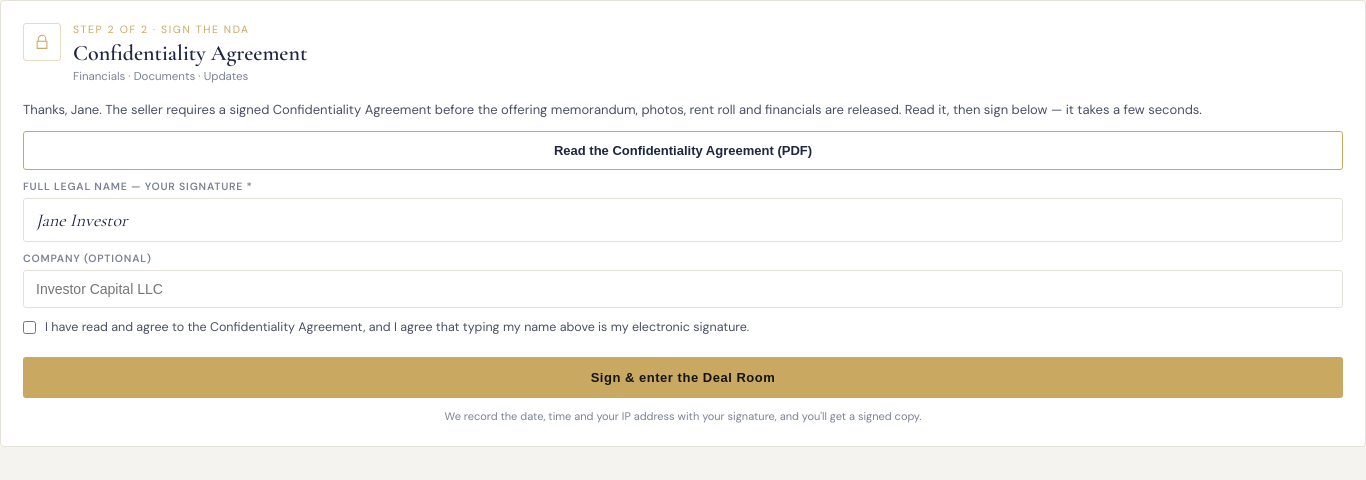
Test: OmGate — NDA step › will not sign without the agreement box, then signs and opens
Click the button "Sign & enter the Deal Room".
click(683, 377)  # box 23,357 -> 1343,398
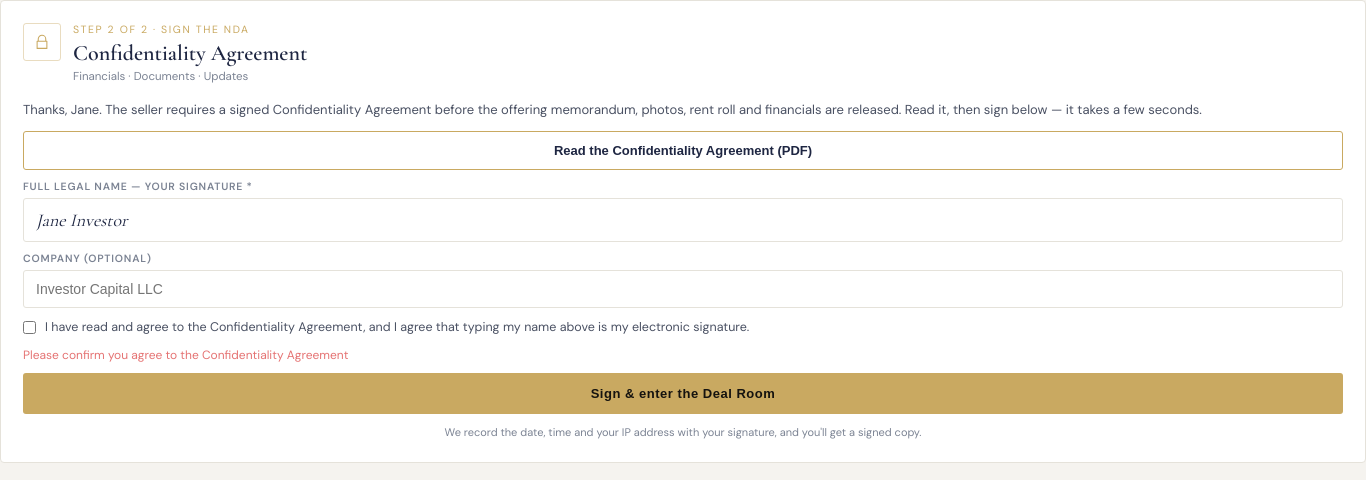
Expected: the text "Please confirm you agree to the Confidentiality Agreement" is shown, 23,347 -> 348,363
Click the checkbox.
click(30, 328)  # box 23,321 -> 36,334
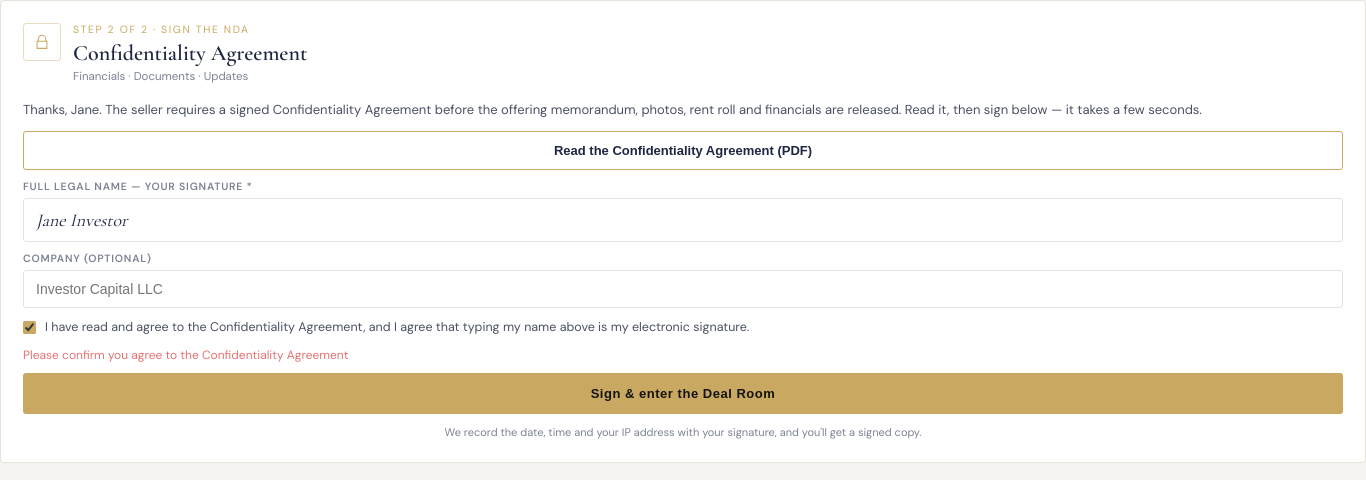
Click the button "Sign & enter the Deal Room".
click(683, 393)  # box 23,373 -> 1343,414
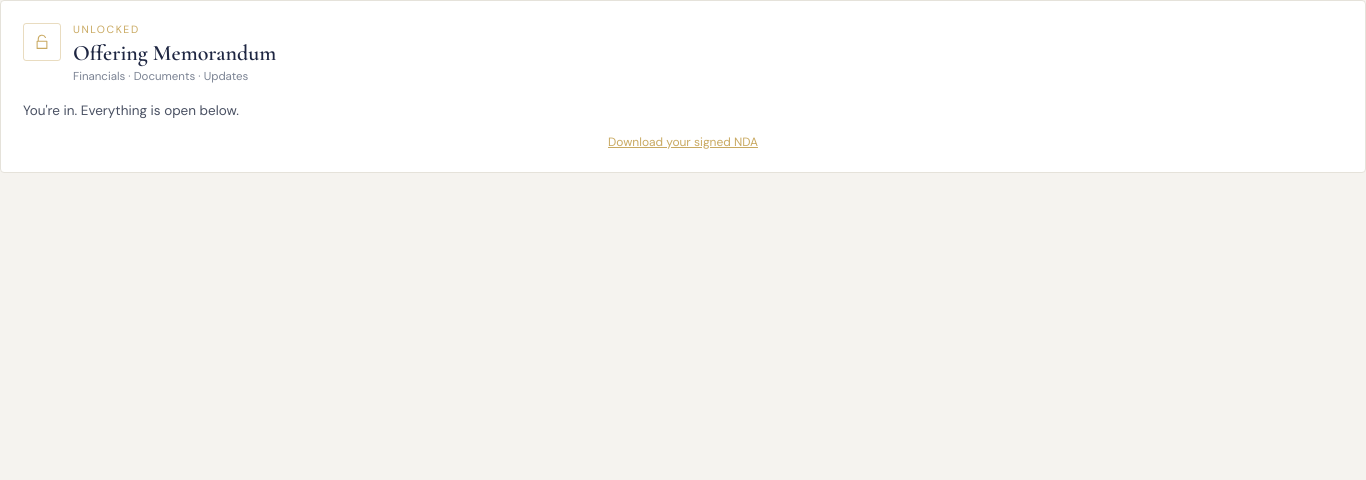
Expected: the link "Download your signed NDA" is shown, 608,134 -> 758,150
